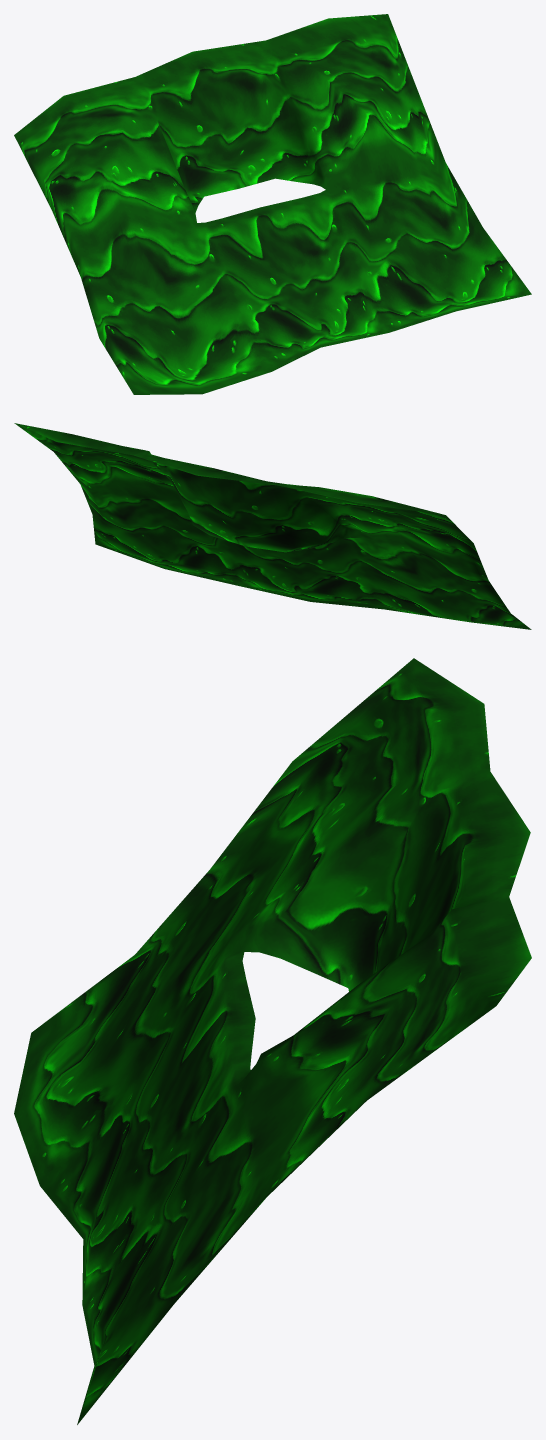
File: TROLLHOLE02_SLIME.fbx
The picture shows the model from 3 angles, top to bottom: view 1: azimuth 30°, elevation 25°; view 2: azimuth 150°, elevation 25°; view 3: azimuth 270°, elevation 25°; orthographic projection. The views are drawn at different scales.
Parts seen in each view (by area): view 1: TROLLHOLE02_SLIME; view 2: TROLLHOLE02_SLIME; view 3: TROLLHOLE02_SLIME.
Part boxes in pixels (x1,y1,x2,y2): TROLLHOLE02_SLIME: [14, 14, 531, 394]; TROLLHOLE02_SLIME: [14, 423, 531, 629]; TROLLHOLE02_SLIME: [14, 658, 531, 1424].
Bounding box in the file's own units: 275818 × 131015 × 153241.
1 material, 1 textured.
